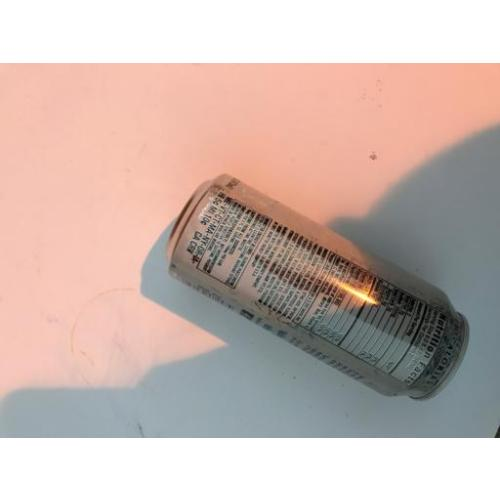metal: (176, 177, 466, 399)
